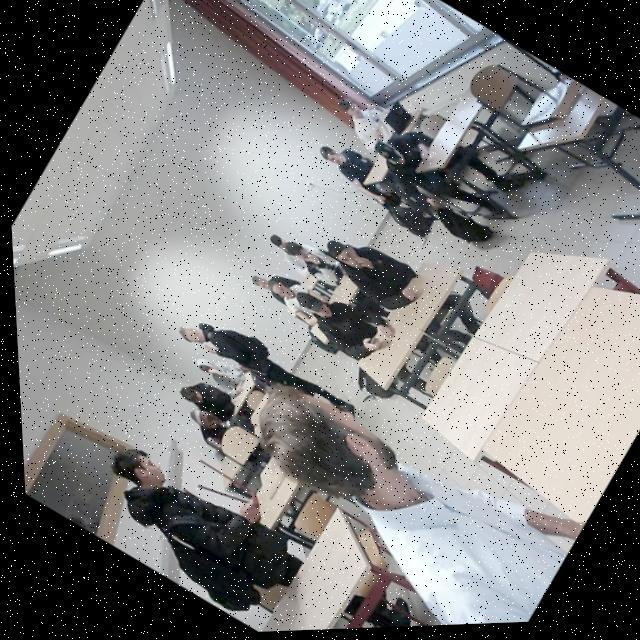phone_use: (268, 276, 391, 357), (190, 410, 238, 460), (180, 382, 233, 418)
